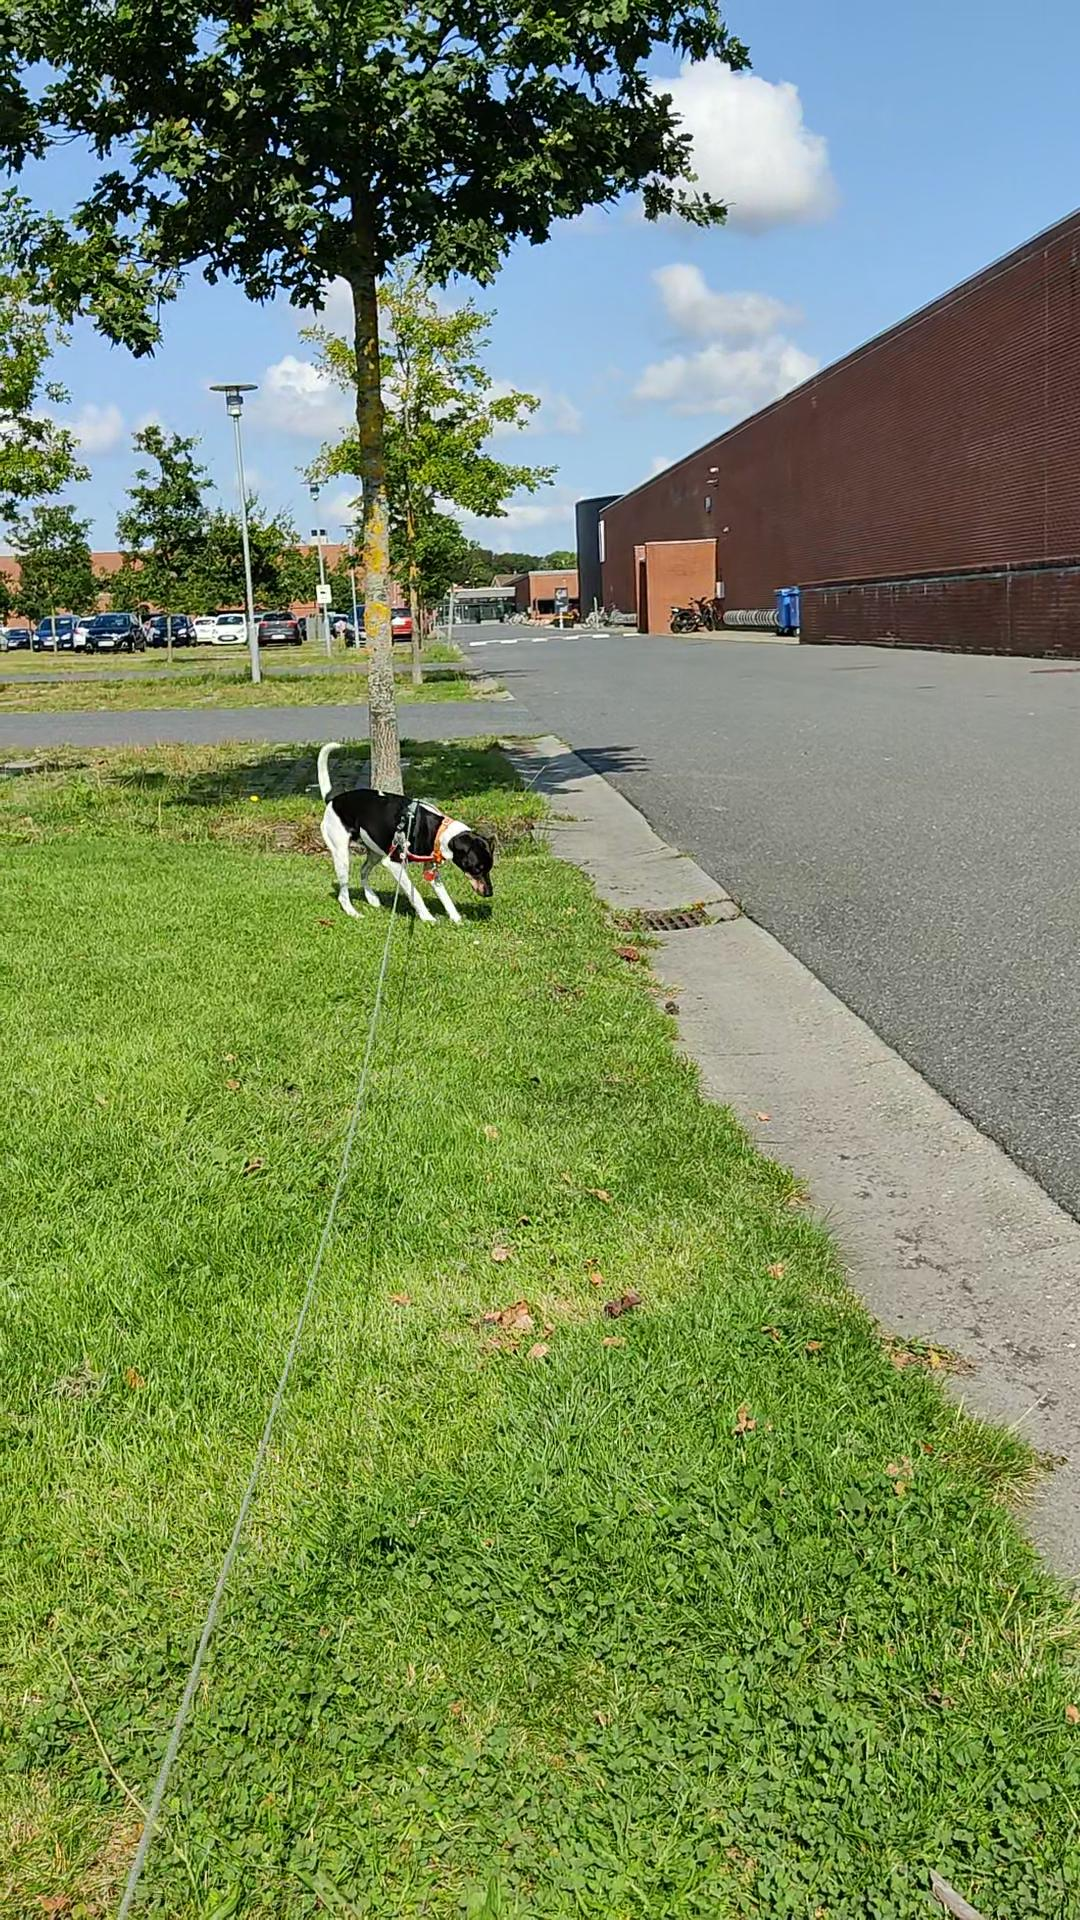Dog: (305, 731, 505, 938)
